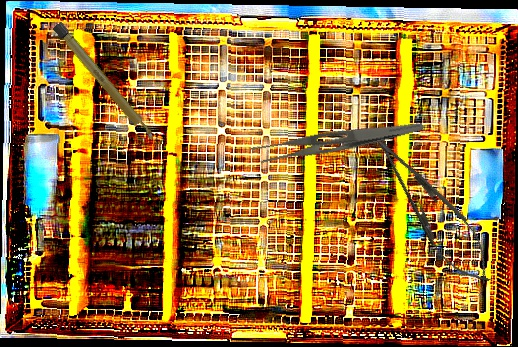Dressing Forceps: (250, 103, 424, 173)
Needle Holder: (355, 117, 506, 296)
Scalpel Handle: (51, 21, 157, 143)
